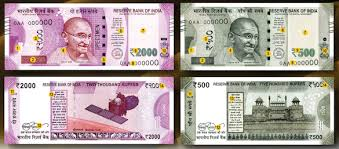twoThousand: (12, 14, 162, 58)
